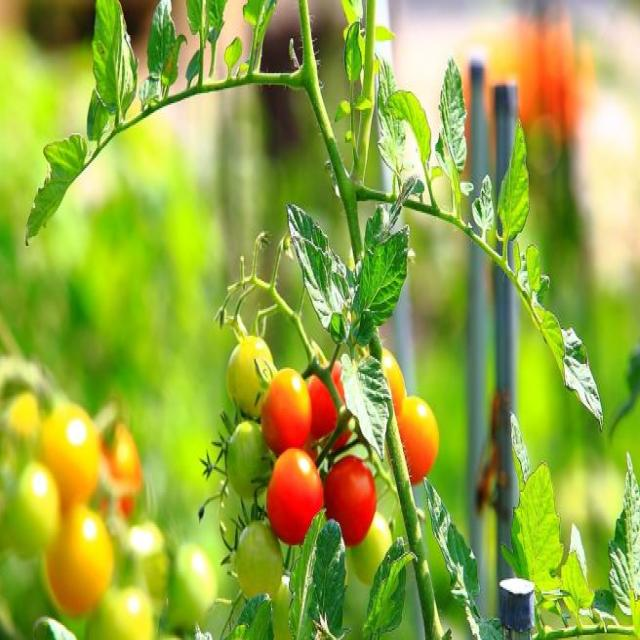level 2: (10, 462, 78, 570), (228, 503, 291, 604), (125, 514, 183, 612), (160, 532, 218, 623), (80, 574, 158, 640), (222, 411, 274, 497), (348, 514, 403, 585), (262, 568, 308, 636)
level 3: (36, 386, 110, 509), (49, 500, 118, 617), (223, 336, 282, 424)
level 4: (354, 332, 411, 424), (384, 404, 441, 494), (96, 413, 142, 521)
level 5: (256, 366, 310, 457)
level 6: (260, 440, 328, 551), (323, 459, 380, 545), (304, 351, 351, 449)
